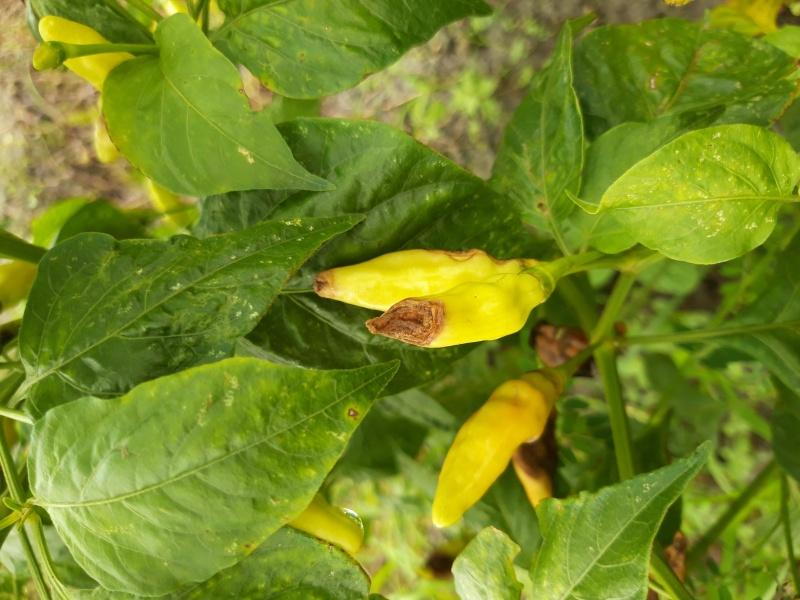antraknosa: (356, 268, 546, 351), (303, 240, 524, 307)
cabai_normal: (431, 374, 558, 528)
